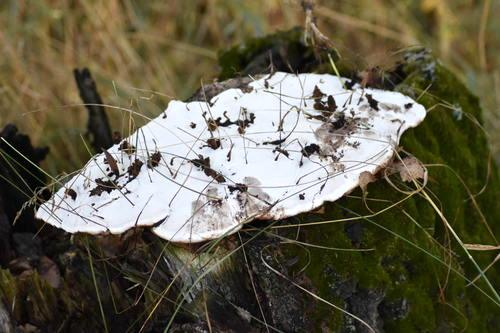Ganoderma - Fruit Body: (29, 71, 425, 243)
